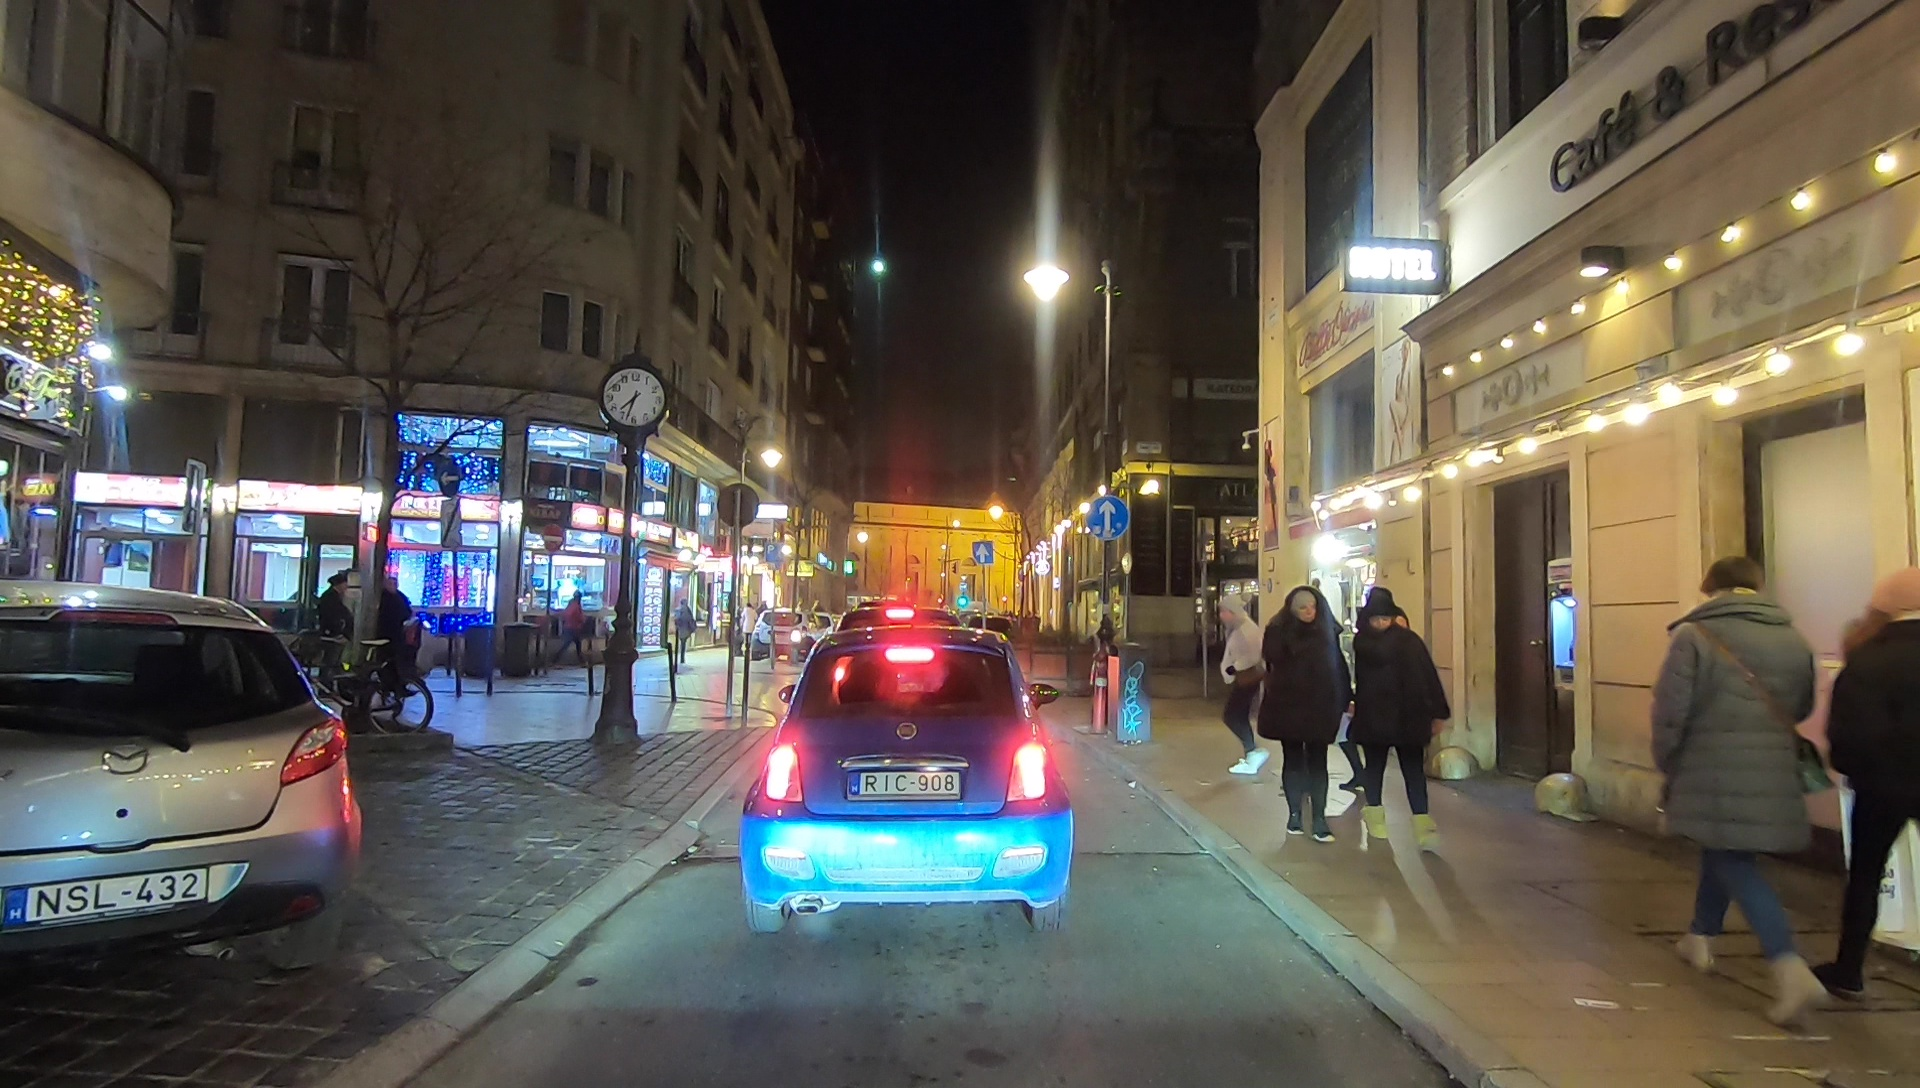person: (1649, 554, 1834, 1032), (1839, 550, 1920, 1012), (1354, 586, 1445, 849), (1264, 586, 1349, 837), (1202, 587, 1269, 782), (323, 569, 354, 691), (560, 593, 588, 665), (673, 599, 695, 665)
